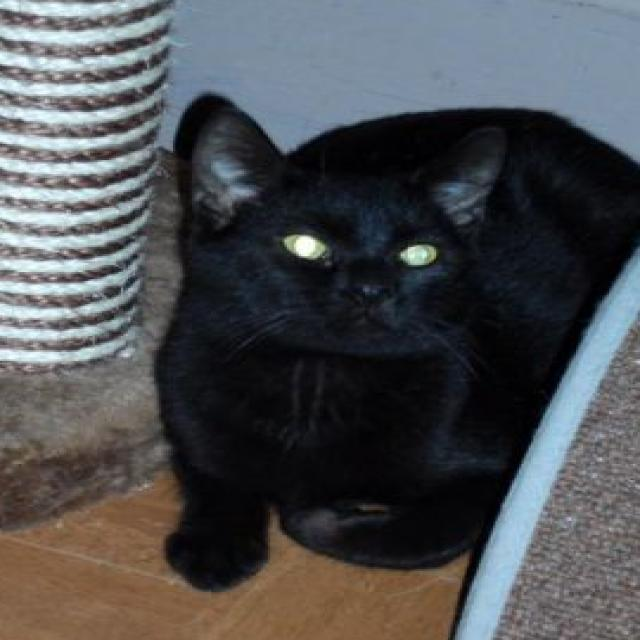Bombay: (144, 92, 640, 597)
